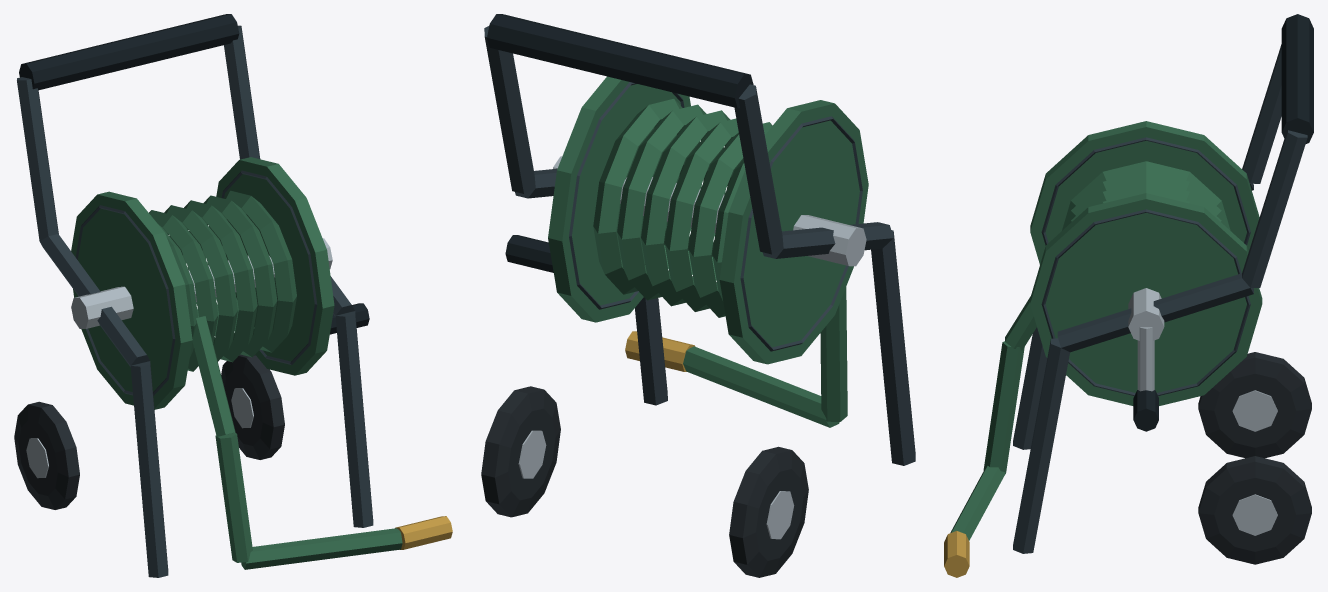
File: b11_wheeled_garden_hose_reel.glb
The picture shows the model from 3 angles, left to right: view 1: azimuth 30°, elevation 25°; view 2: azimuth 150°, elevation 25°; view 3: azimuth 270°, elevation 25°; orthographic projection. The views are drawn at different scales.
Parts seen in each view (by area): view 1: b11_wheeled_garden_hose_reel; view 2: b11_wheeled_garden_hose_reel; view 3: b11_wheeled_garden_hose_reel.
Boxes of the visible parts, bbox=[...] form: b11_wheeled_garden_hose_reel: bbox=[14, 14, 452, 577]; b11_wheeled_garden_hose_reel: bbox=[481, 14, 915, 577]; b11_wheeled_garden_hose_reel: bbox=[944, 14, 1313, 577].
Bounding box in the file's own units: 0.72 × 1.03 × 0.781.
